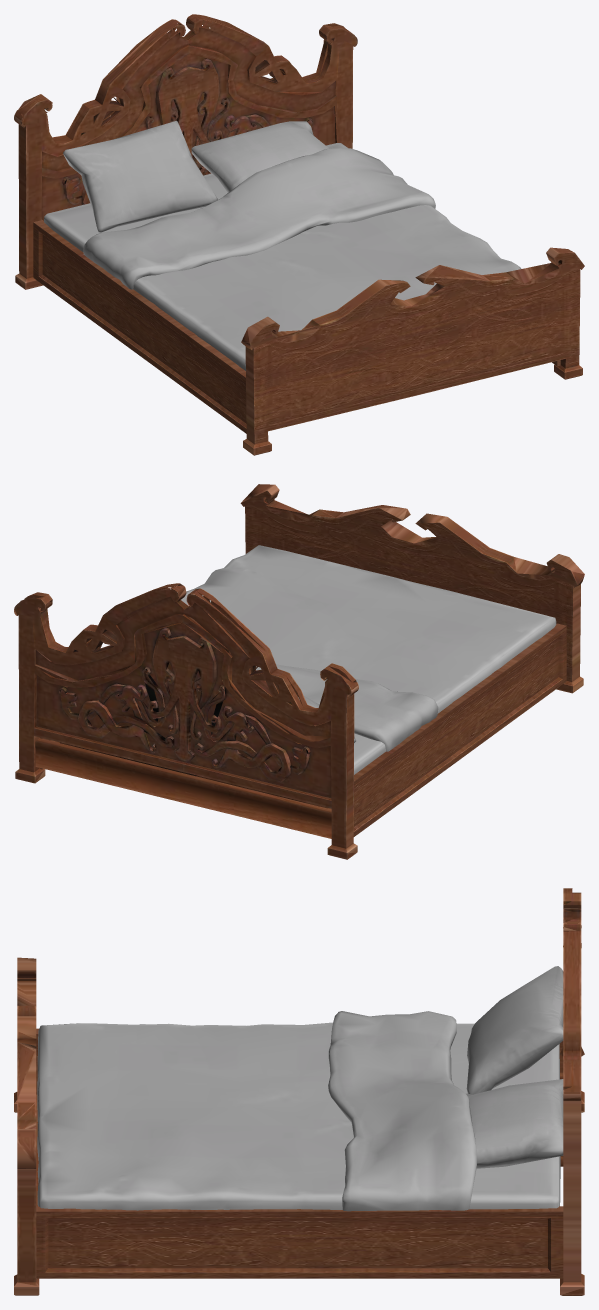
Rendered from bed-double.gltf.
3 renders of one model, top to bottom at view 1: azimuth 30°, elevation 25°; view 2: azimuth 150°, elevation 25°; view 3: azimuth 270°, elevation 25°, orthographic. The views are drawn at different scales.
Visible parts, largest first — view 1: prop; view 2: prop; view 3: prop.
Part boxes in pixels (x1,y1,x2,y2): prop: (14,14,584,455); prop: (14,484,584,859); prop: (14,888,584,1295).
Size of the model in its own units: 1.79 by 1.15 by 2.18.
Materials: 7 (7 with a texture image).
